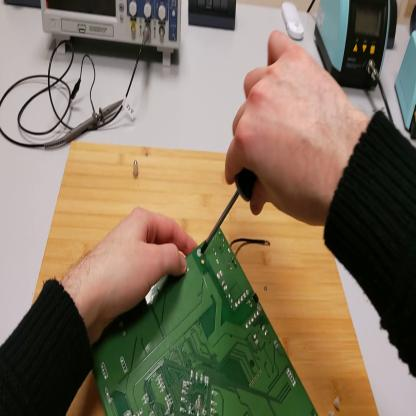hand: (227, 33, 353, 226), (76, 208, 198, 334)
low voltage board: (93, 226, 320, 416)
oscilloscope: (40, 2, 181, 69)
oscilloscope probe tip: (46, 98, 124, 149)
screwdriver-: (201, 166, 260, 252)
socket: (387, 3, 400, 49), (4, 1, 42, 10)
welder base: (396, 32, 416, 140)
welder station: (315, 2, 392, 94)
working area: (32, 142, 379, 416)
